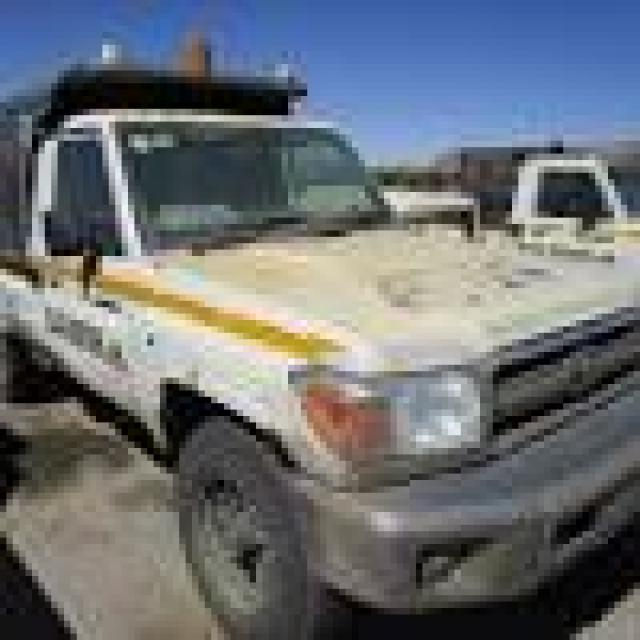light_vehicle: (12, 39, 634, 634)
